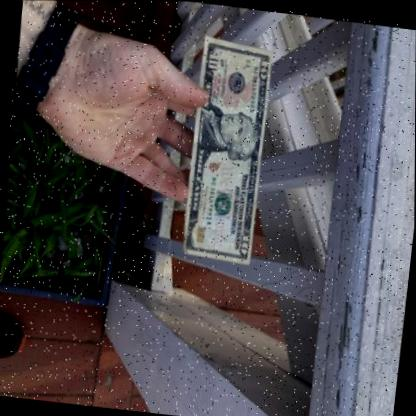ten-front: (178, 33, 271, 264)
